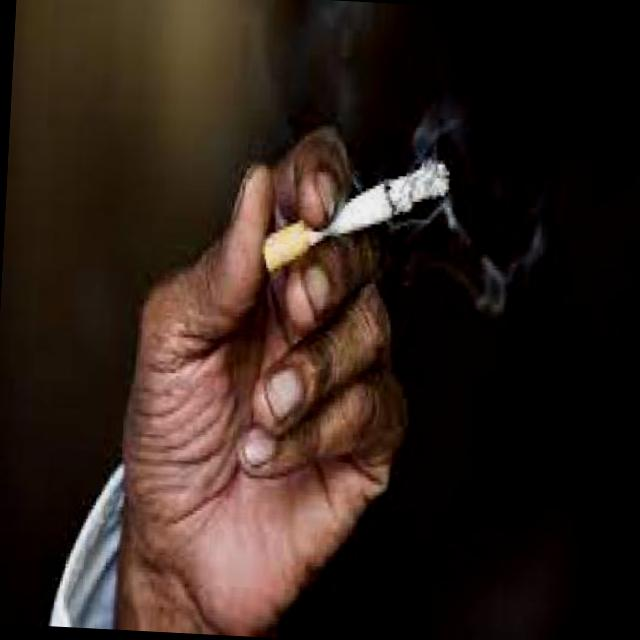cigarette: (259, 145, 450, 280)
